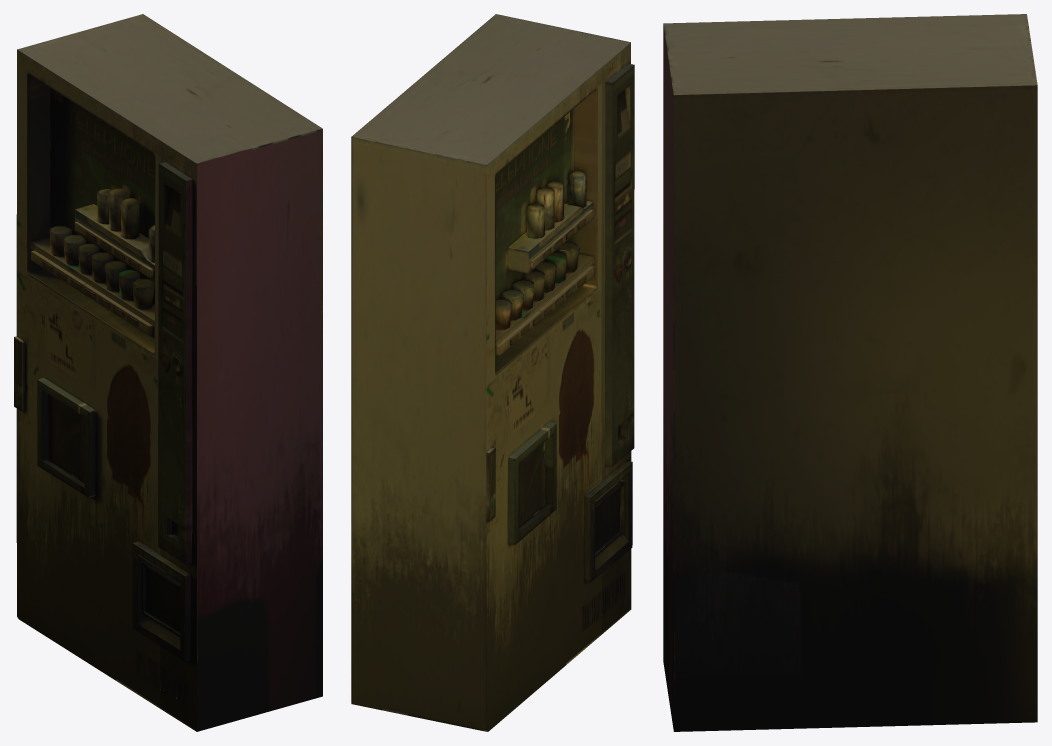
Rendered from vend.fbx.
The picture shows the model from 3 angles, left to right: view 1: azimuth 30°, elevation 25°; view 2: azimuth 150°, elevation 25°; view 3: azimuth 270°, elevation 25°; orthographic projection. The views are drawn at different scales.
Parts seen in each view (by area): view 1: vendingmachine; view 2: vendingmachine; view 3: vendingmachine.
Boxes of the visible parts, bbox=[...] form: vendingmachine: bbox=[14, 14, 322, 731]; vendingmachine: bbox=[351, 14, 634, 731]; vendingmachine: bbox=[663, 14, 1037, 731].
Size of the model in its own units: 0.6031 by 2.15 by 1.14.
Materials: 1 (1 with a texture image).
